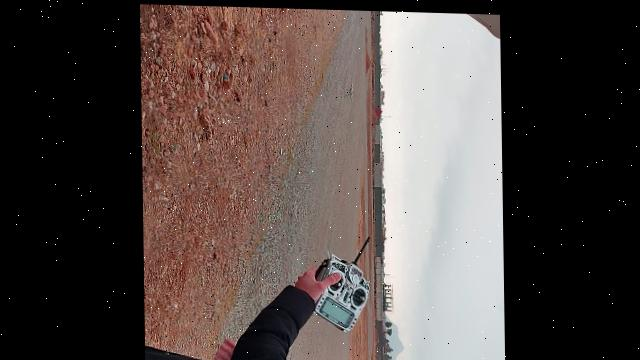drone: (343, 80, 355, 98)
